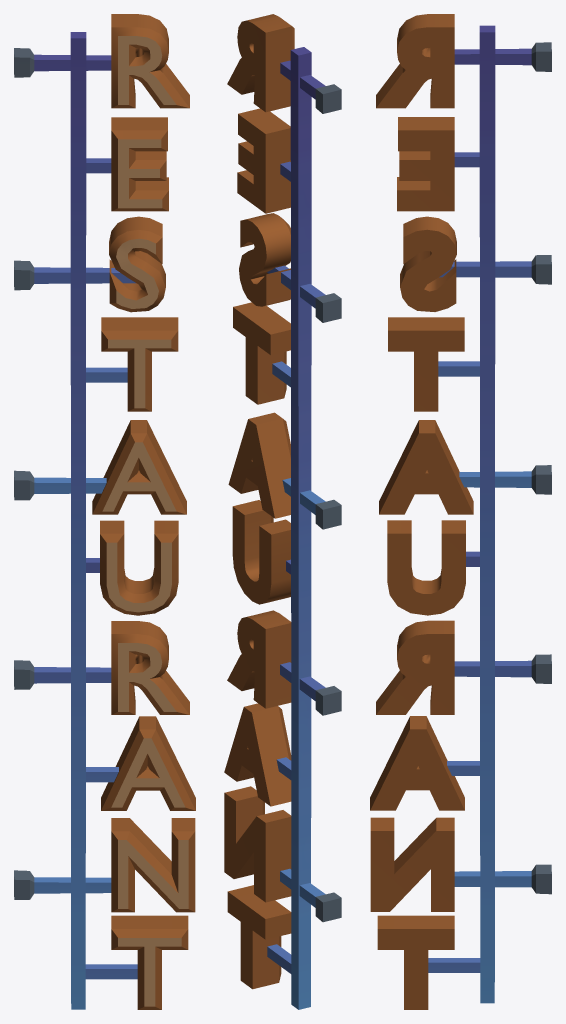
The model's file is Restaurant_3_A.fbx.
3 views of the same model, side by side, from view 1: azimuth 90°, elevation 25°; view 2: azimuth 210°, elevation 25°; view 3: azimuth 270°, elevation 25° (orthographic).
Visible parts, largest first — view 1: Restaurant_3_A; view 2: Restaurant_3_A; view 3: Restaurant_3_A.
Boxes of the visible parts, x1=… form: Restaurant_3_A: x1=14, y1=14, x2=195, y2=1009; Restaurant_3_A: x1=224, y1=14, x2=341, y2=1009; Restaurant_3_A: x1=370, y1=14, x2=551, y2=1009.
Bounding box in the file's own units: 25.3 × 718 × 120.
